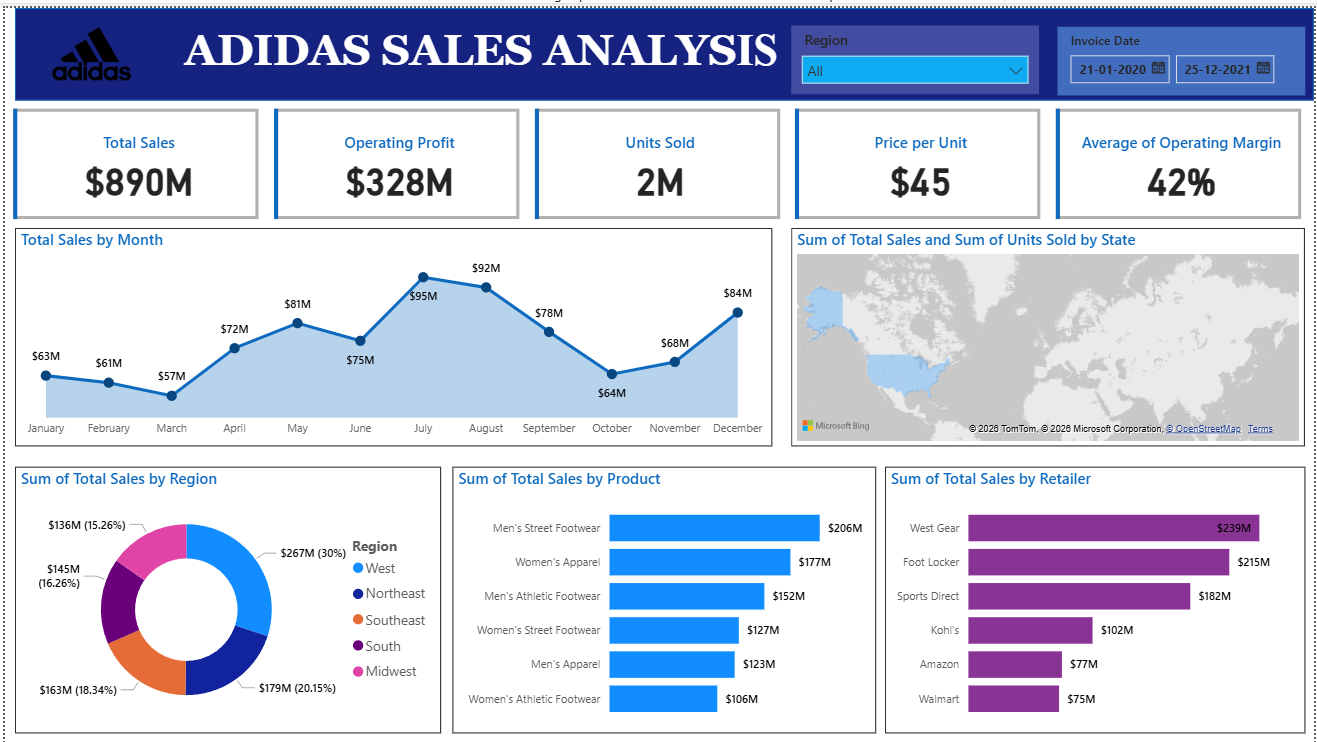

The page's visual inventory and layout, read from the dashboard file:
{"tool":"powerbi","page":{"name":"Page 1","canvas":[1280,720],"ordinal":0},"visuals":[{"type":"shape","box":[9.8,0,1270.5,90.5],"z":0},{"type":"textbox","box":[170,12.2,599.2,78.3],"z":1000},{"type":"cardVisual","fields":{"Data":["Sum(Data Sales Adidas (2).Total Sales)","Sum(Data Sales Adidas (2).Operating Profit)","Sum(Data Sales Adidas (2).Units Sold)","Avg(Data Sales Adidas (2).Price per Unit)","Avg(Data Sales Adidas (2).Operating Margin)"]},"box":[0,90.5,1280.3,124.7],"z":2000},{"type":"areaChart","title":"Total Sales by Month","fields":{"Category":["Data Sales Adidas (2).Invoice Date.Variation.Date Hierarchy.Month"],"Y":["Sum(Data Sales Adidas (2).Total Sales)"]},"box":[9.8,215.2,741,214],"z":3000},{"type":"filledMap","fields":{"Category":["Data Sales Adidas (2).State"],"Y":["Sum(Data Sales Adidas (2).Total Sales)"]},"box":[769.2,215.2,502.6,214],"z":4000},{"type":"donutChart","fields":{"Category":["Data Sales Adidas (2).Region"],"Y":["Sum(Data Sales Adidas (2).Total Sales)"]},"box":[9.8,448.8,417,260.5],"z":5000},{"type":"barChart","fields":{"Y":["Sum(Data Sales Adidas (2).Total Sales)"],"Category":["Data Sales Adidas (2).Product"]},"box":[437.8,448.8,414.5,260.5],"z":6000},{"type":"barChart","fields":{"Y":["Sum(Data Sales Adidas (2).Total Sales)"],"Category":["Data Sales Adidas (2).Retailer"]},"box":[860.9,448.8,410.9,260.5],"z":7000},{"type":"slicer","fields":{"Values":["Data Sales Adidas (2).Region"]},"box":[769.2,17.1,242.1,67.3],"z":8000},{"type":"slicer","fields":{"Values":["Data Sales Adidas (2).Invoice Date"]},"box":[1029.6,18.3,242.1,67.3],"z":9000},{"type":"image","box":[41.6,1.2,86.8,86.8],"z":10000}]}

Visuals, with their boxes in screenshot pixels (x1, y1, x2, y2), scaled from the page's 1280x720 canvas onto the 1317x742 screenshot:
shape: rect(10, 0, 1316, 93)
textbox: rect(175, 13, 791, 93)
cardVisual - Sum(Data Sales Adidas (2).Total Sales) x Sum(Data Sales Adidas (2).Operating Profit): rect(0, 93, 1316, 222)
"Total Sales by Month" areaChart: rect(10, 222, 773, 442)
filledMap - Data Sales Adidas (2).State x Sum(Data Sales Adidas (2).Total Sales): rect(791, 222, 1309, 442)
donutChart - Data Sales Adidas (2).Region x Sum(Data Sales Adidas (2).Total Sales): rect(10, 463, 439, 731)
barChart - Sum(Data Sales Adidas (2).Total Sales) x Data Sales Adidas (2).Product: rect(450, 463, 877, 731)
barChart - Sum(Data Sales Adidas (2).Total Sales) x Data Sales Adidas (2).Retailer: rect(886, 463, 1309, 731)
slicer - Data Sales Adidas (2).Region: rect(791, 18, 1041, 87)
slicer - Data Sales Adidas (2).Invoice Date: rect(1059, 19, 1308, 88)
image: rect(43, 1, 132, 91)
